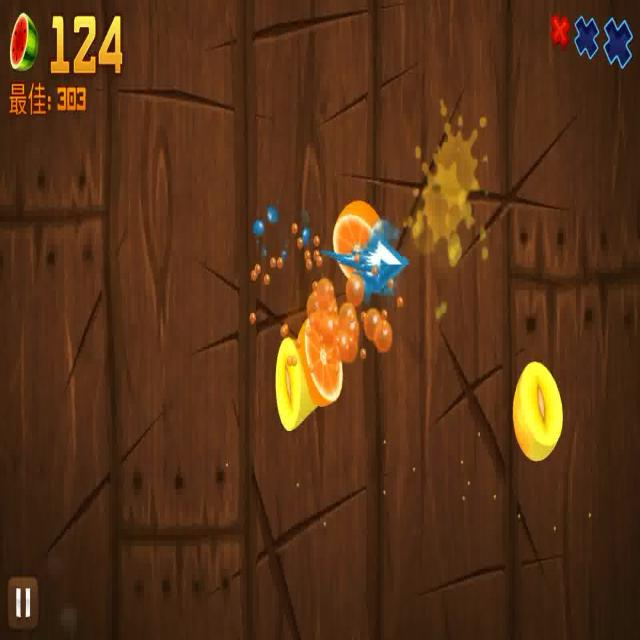fruit: (512, 359, 564, 462), (332, 197, 387, 294), (301, 316, 344, 411), (274, 334, 314, 432)
